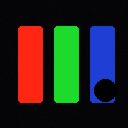2 circle: (94, 79, 116, 101)
